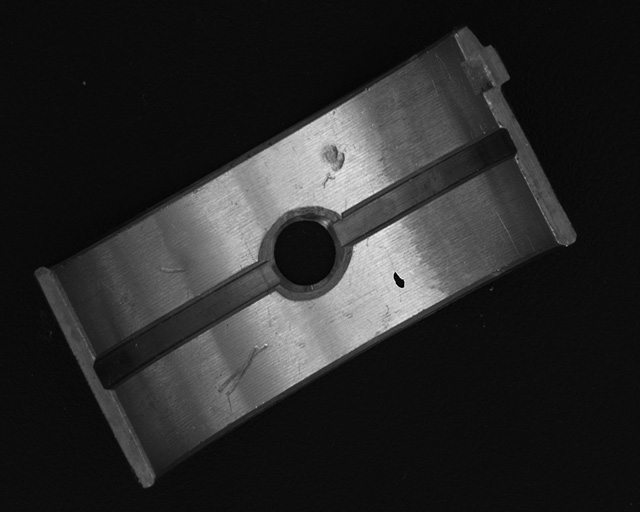blot: (393, 271, 405, 289)
bruise: (321, 142, 346, 190)
gap: (93, 261, 276, 388), (336, 128, 517, 244)
hole: (261, 212, 345, 296)
nick: (217, 342, 268, 398), (157, 265, 188, 275)
